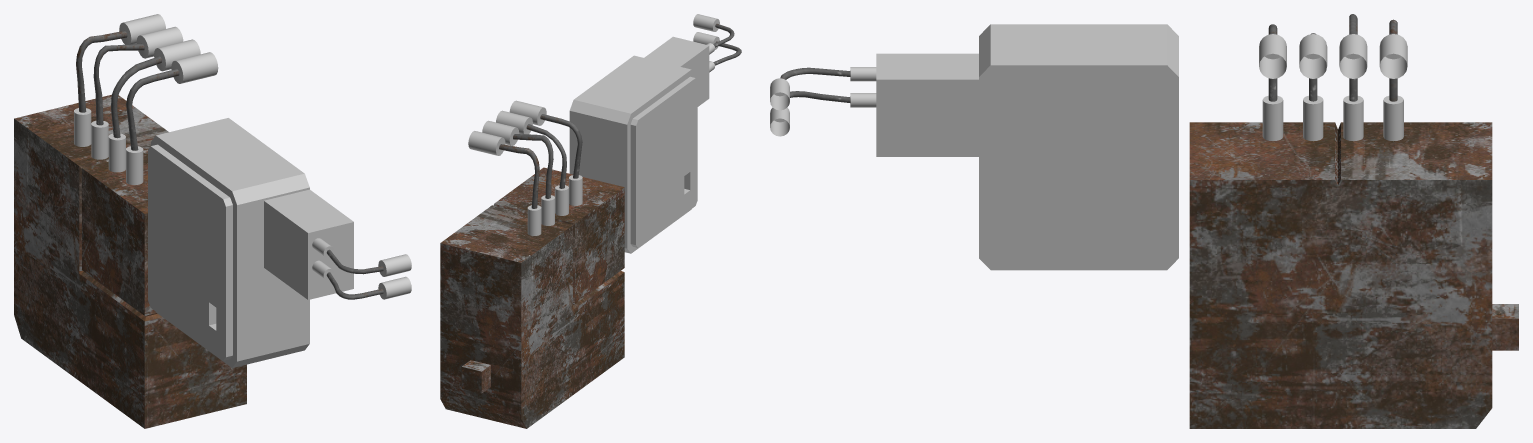
The model's file is Component_ElectroB_grp.fbx.
The picture shows the model from 3 angles, left to right: view 1: azimuth 30°, elevation 25°; view 2: azimuth 150°, elevation 25°; view 3: azimuth 270°, elevation 25°; orthographic projection. The views are drawn at different scales.
Visible parts, largest first — view 1: electroB_metalA, electroB_metalRust, electroB_metalB, electroB_metalC; view 2: electroB_metalA, electroB_metalRust, electroB_metalB, electroB_metalC; view 3: electroB_metalA, electroB_metalRust, electroB_metalB, electroB_metalC.
Part boxes in pixels (x1,y1,x2,y2): electroB_metalA: (14,94,246,428); electroB_metalRust: (148,118,353,367); electroB_metalB: (74,14,411,299); electroB_metalC: (76,30,383,299); electroB_metalA: (440,167,624,428); electroB_metalRust: (569,36,709,253); electroB_metalB: (468,14,719,235); electroB_metalC: (499,23,741,208); electroB_metalA: (1189,122,1518,428); electroB_metalRust: (876,24,1178,270); electroB_metalB: (770,34,1407,141); electroB_metalC: (780,14,1397,102).
Bounding box in the file's own units: 56.95 × 162 × 292.
